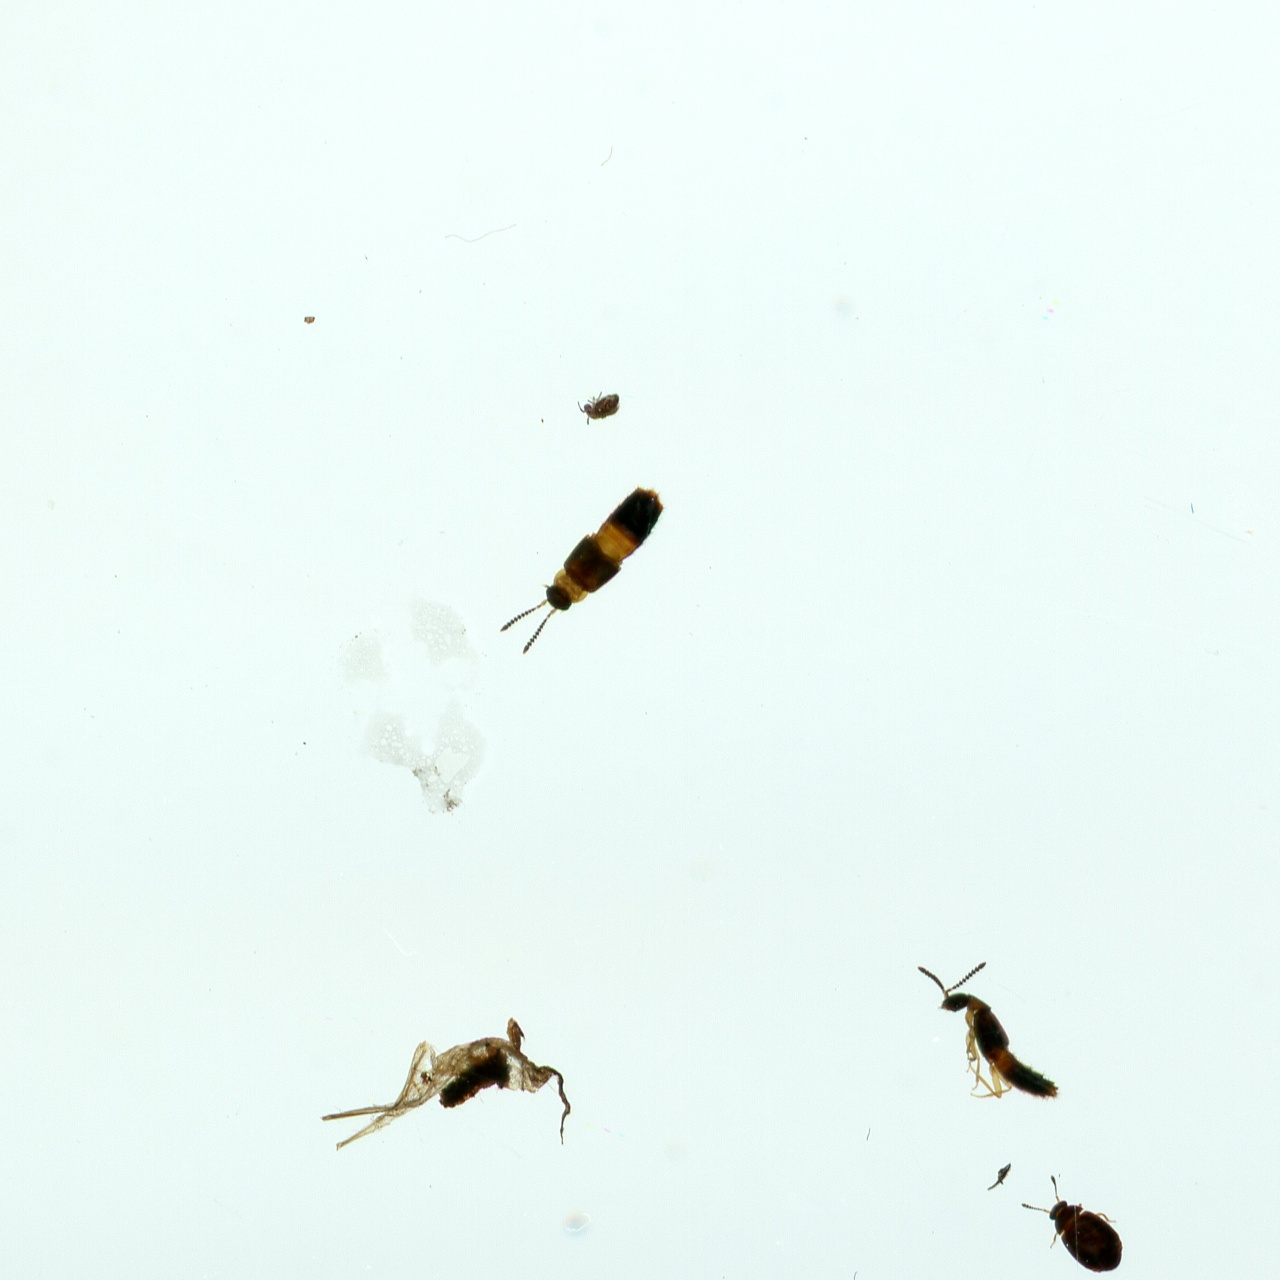arthropod: (474, 443, 688, 692), (908, 949, 1070, 1115), (1019, 1171, 1130, 1280), (574, 387, 625, 429)
